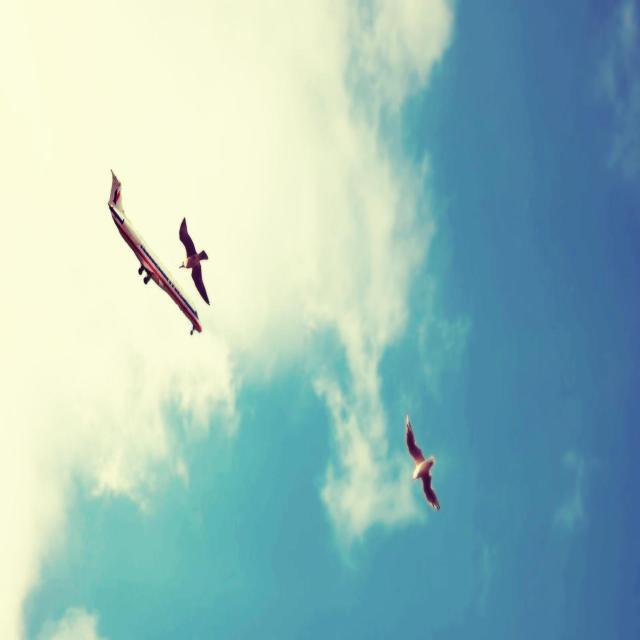airplane: (107, 168, 204, 335)
